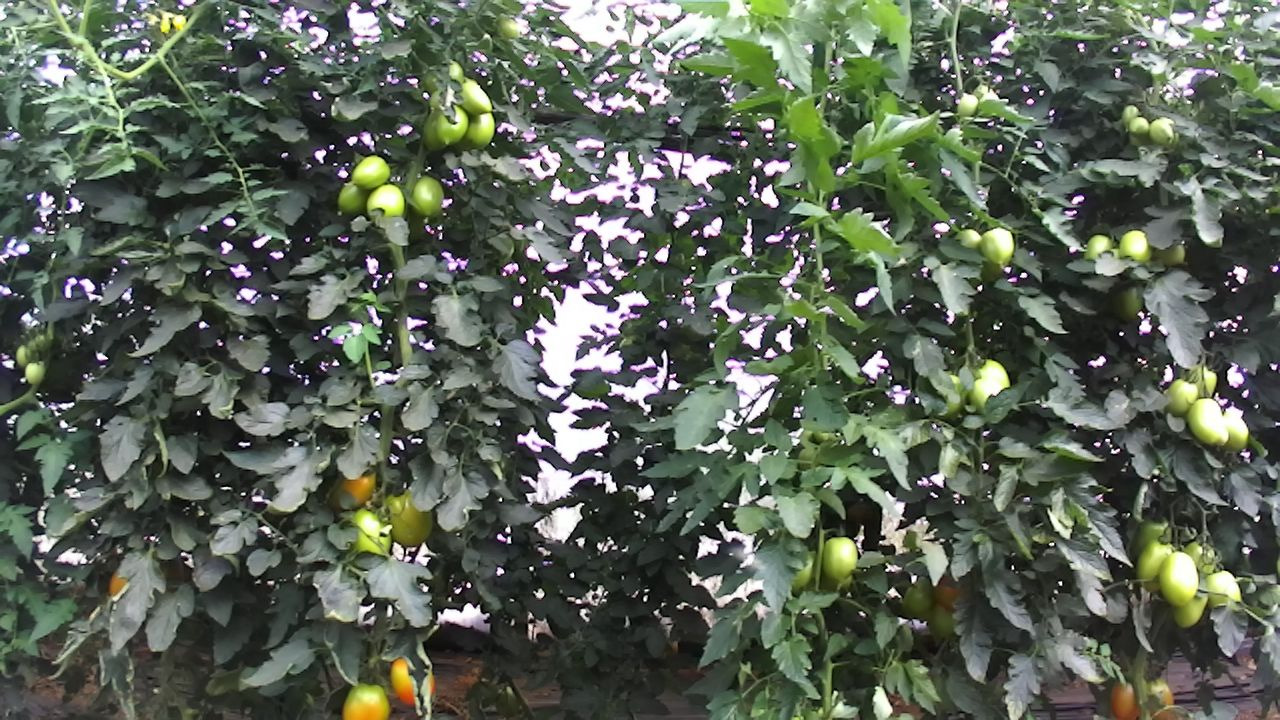tomato: (381, 485, 437, 550), (965, 353, 1014, 419), (387, 652, 439, 710), (1182, 393, 1232, 449), (1157, 549, 1200, 610), (1133, 536, 1177, 593), (338, 678, 392, 720), (895, 573, 940, 623), (432, 98, 472, 149), (819, 534, 858, 585), (1168, 586, 1212, 631), (1202, 566, 1246, 611), (976, 223, 1017, 270), (452, 73, 494, 118), (1161, 374, 1201, 421), (348, 152, 393, 192), (1108, 279, 1146, 325), (461, 106, 497, 154), (334, 177, 372, 219), (410, 174, 446, 218), (924, 601, 962, 642), (1107, 675, 1141, 720), (364, 183, 405, 220), (1115, 226, 1153, 265), (1081, 230, 1116, 264), (1147, 116, 1175, 146), (955, 92, 980, 118), (23, 360, 46, 386), (1126, 115, 1152, 137), (1120, 104, 1139, 130)
